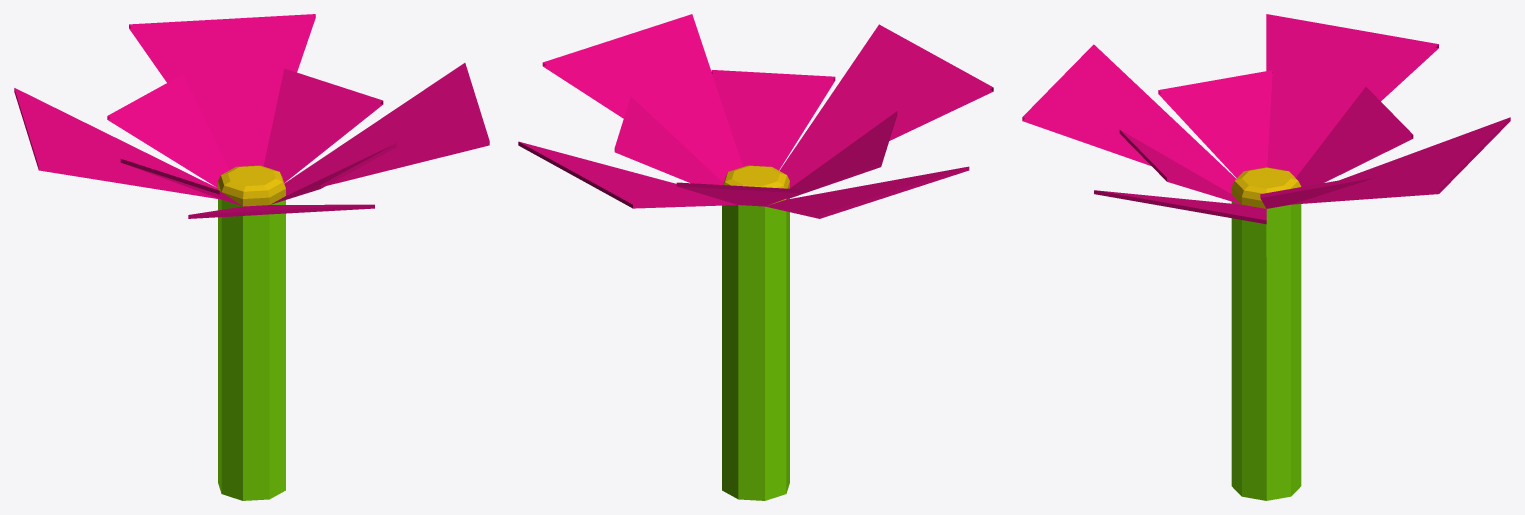
File: Flower.fbx
3 renders of one model, left to right at view 1: azimuth 30°, elevation 25°; view 2: azimuth 150°, elevation 25°; view 3: azimuth 270°, elevation 25°, orthographic.
Parts seen in each view (by area): view 1: Circle; view 2: Circle; view 3: Circle.
Boxes of the visible parts, <box> form: Circle: <box>14,14,489,500</box>; Circle: <box>518,14,993,500</box>; Circle: <box>1022,14,1510,500</box>.
Bounding box in the file's own units: 42.97 × 35.83 × 42.97.
